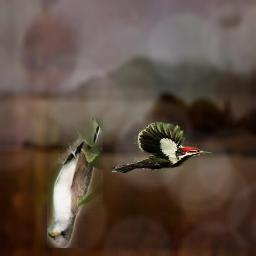Cuckoo: (47, 118, 103, 248)
Woodpecker: (111, 122, 213, 173)
